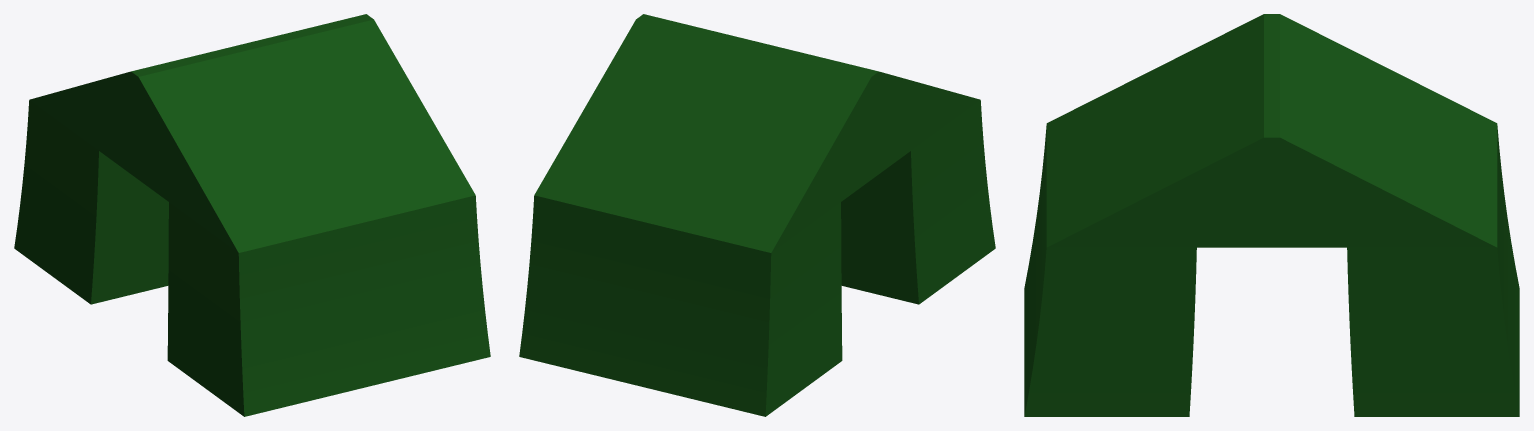
The model's file is Tent.fbx.
3 views of the same model, side by side, from view 1: azimuth 30°, elevation 25°; view 2: azimuth 150°, elevation 25°; view 3: azimuth 270°, elevation 25° (orthographic). The views are drawn at different scales.
Visible parts, largest first — view 1: Cube.015; view 2: Cube.015; view 3: Cube.015.
Part boxes in pixels (box(x1,y1,x2,y2)): Cube.015: box(14, 14, 490, 416); Cube.015: box(519, 14, 995, 416); Cube.015: box(1024, 14, 1519, 416).
Bounding box in the file's own units: 138 × 138 × 223.
